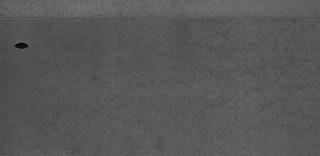punching hole: (14, 40, 31, 50)
silk spot: (42, 31, 314, 151)
